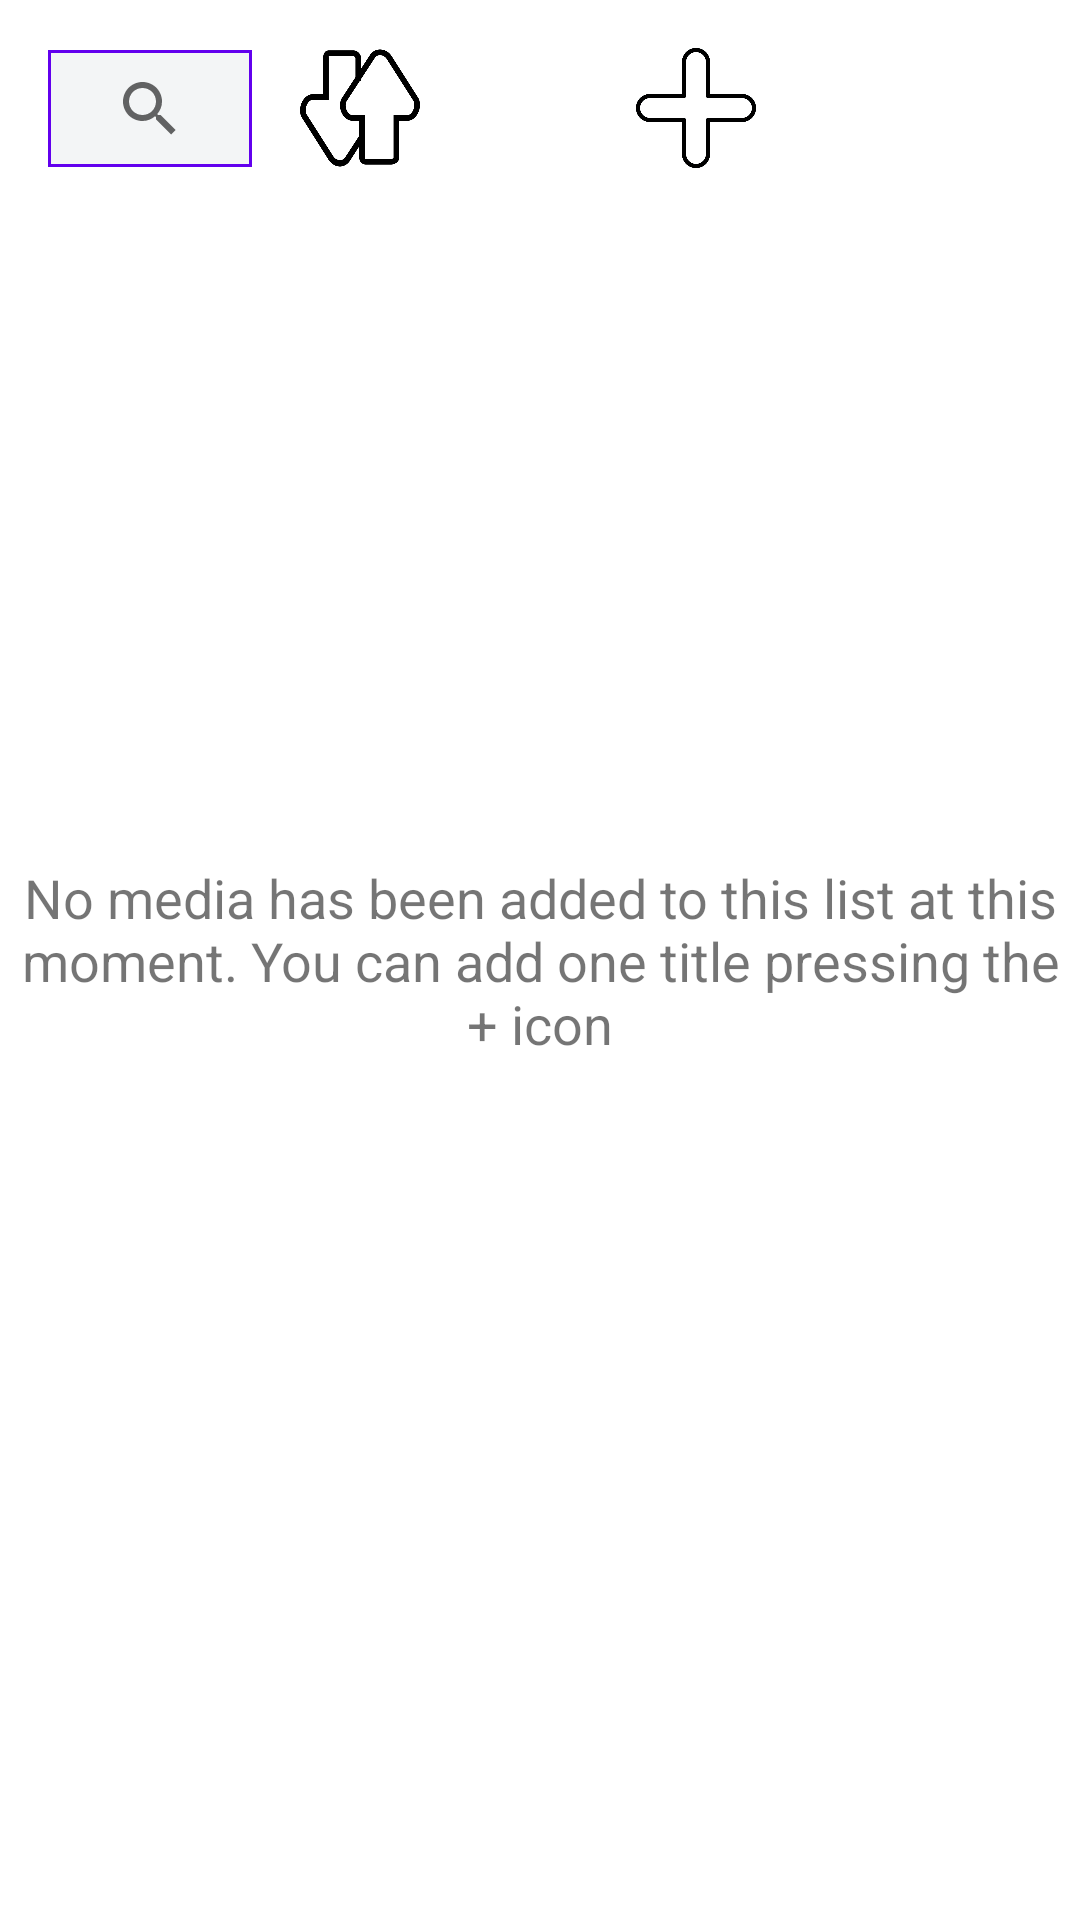

Named icons in this screenshot (1080px x 1920px) and their centers, point (x, y):
Add to collection: point (696, 108)
Sort: point (360, 108)
